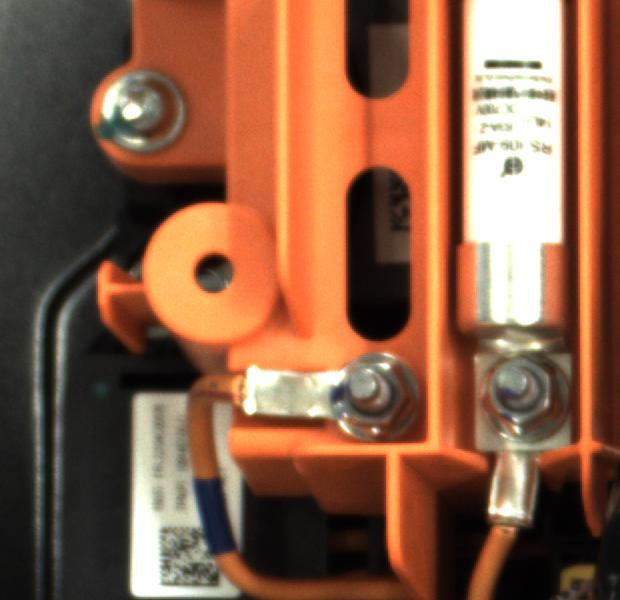screw_m: (92, 66, 202, 164)
screw_s: (317, 348, 423, 441), (472, 346, 570, 439)
